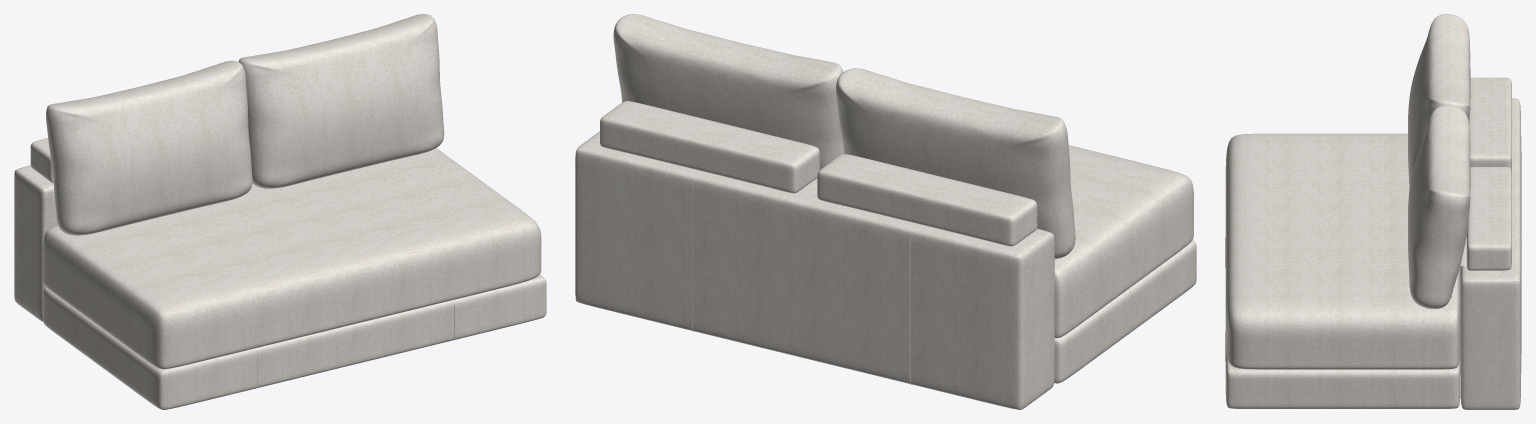
Rendered from 2seats.glb.
3 views of the same model, side by side, from view 1: azimuth 30°, elevation 25°; view 2: azimuth 150°, elevation 25°; view 3: azimuth 270°, elevation 25° (orthographic). The views are drawn at different scales.
Visible parts, largest first — view 1: object 13, Alm. da costa (×2), object 12, object 2, apoio de costa; view 2: object 2, Alm. da costa (×2), apoio de costa (×2), object 13, object 12; view 3: object 13, Alm. da costa (×2), object 2, object 12, apoio de costa (×2), D=~ 0,00 m.
Part boxes in pixels (x1,y1,x2,y2): object 13: (43,148,541,369); Alm. da costa (×2): (46,14,444,235); object 12: (43,274,546,409); object 2: (14,165,57,321); apoio de costa: (30,138,53,182); object 2: (575,131,1054,409); Alm. da costa (×2): (613,14,1075,259); apoio de costa (×2): (600,101,1037,246); object 13: (1054,145,1193,338); object 12: (1054,240,1196,383); object 13: (1225,133,1460,369); Alm. da costa (×2): (1408,14,1470,308); object 2: (1460,98,1521,409); object 12: (1225,342,1460,408); apoio de costa (×2): (1451,77,1511,298); D=~ 0,00 m: (1462,280,1519,409).
Size of the model in its own units: 1.66 by 0.905 by 1.12.
1 material, 1 textured.
